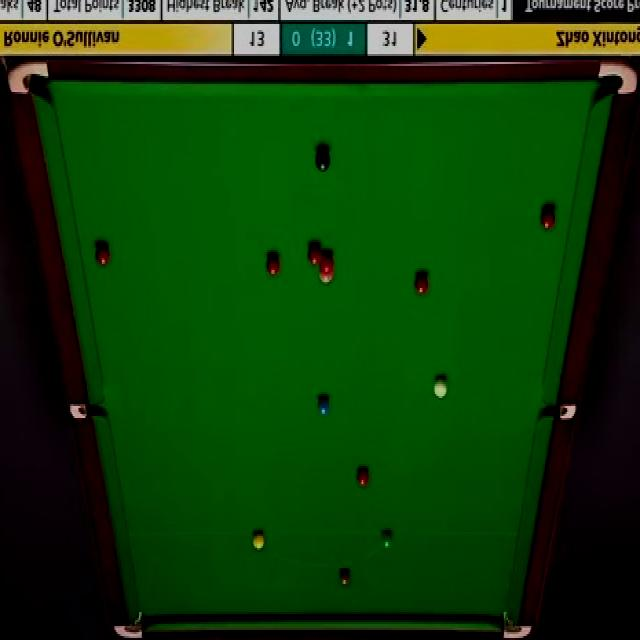black-ball: (314, 148, 331, 172)
blue-ball: (315, 395, 332, 416)
brown-ball: (336, 567, 352, 587)
green-ball: (380, 530, 393, 551)
pink-ball: (318, 264, 331, 284)
red-ball: (539, 205, 555, 232), (93, 242, 110, 264), (308, 242, 321, 266), (357, 464, 370, 488), (414, 273, 428, 295), (320, 248, 333, 270), (266, 254, 280, 274)
white-ball: (432, 373, 449, 403)
yellow-ball: (253, 530, 265, 550)
